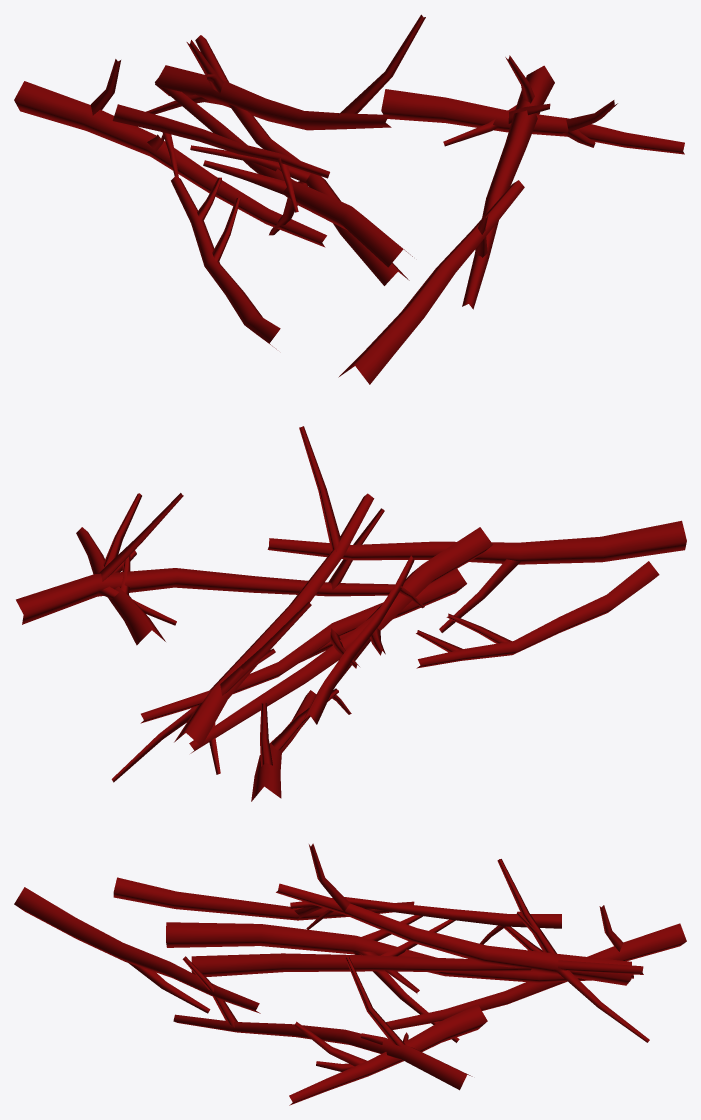
The model's file is branch_pile_b.glb.
The picture shows the model from 3 angles, top to bottom: view 1: azimuth 30°, elevation 25°; view 2: azimuth 150°, elevation 25°; view 3: azimuth 270°, elevation 25°; orthographic projection. The views are drawn at different scales.
Parts seen in each view (by area): view 1: LOD0; view 2: LOD0; view 3: LOD0.
Part boxes in pixels (x1,y1,x2,y2): LOD0: (14, 14, 684, 384); LOD0: (16, 426, 686, 801); LOD0: (14, 843, 686, 1105).
Size of what is drawn, in the model's own units: 1.47 by 0.7205 by 1.95.
